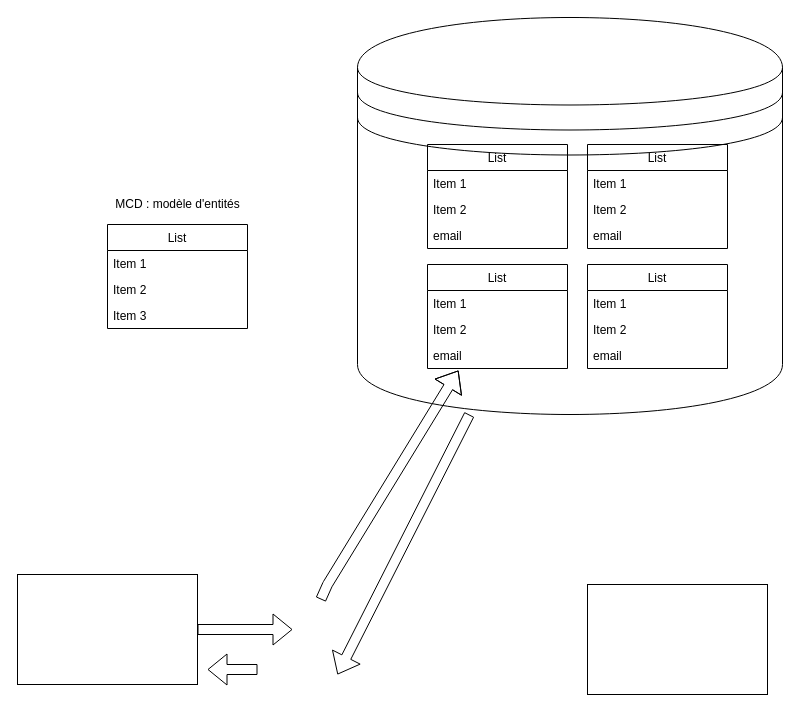
Some shapes in this 800 by 712 pixel diagram are drawn without their labels. Here are the shapes that lost their labels. From the top down, the centre of each, then its label:
At pixel 107 629: "Objet * : Message * : Email *:".
At pixel 677 639: "identifiant* : MDP* : Email *:".
